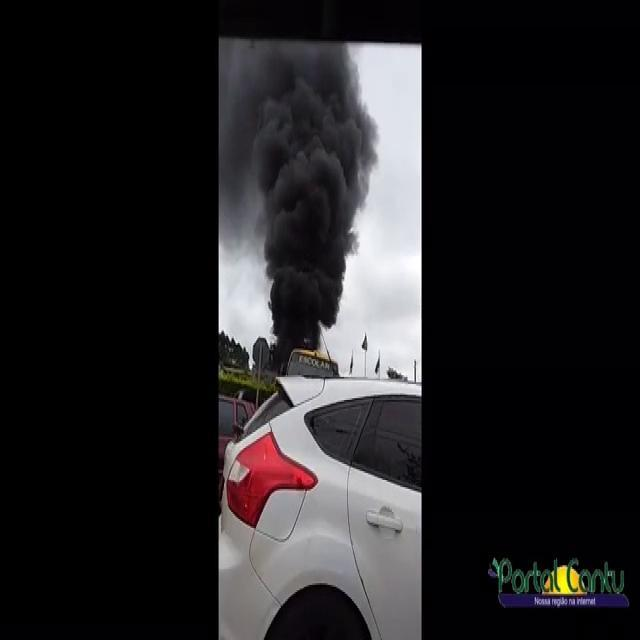Smoke: (225, 18, 365, 360)
